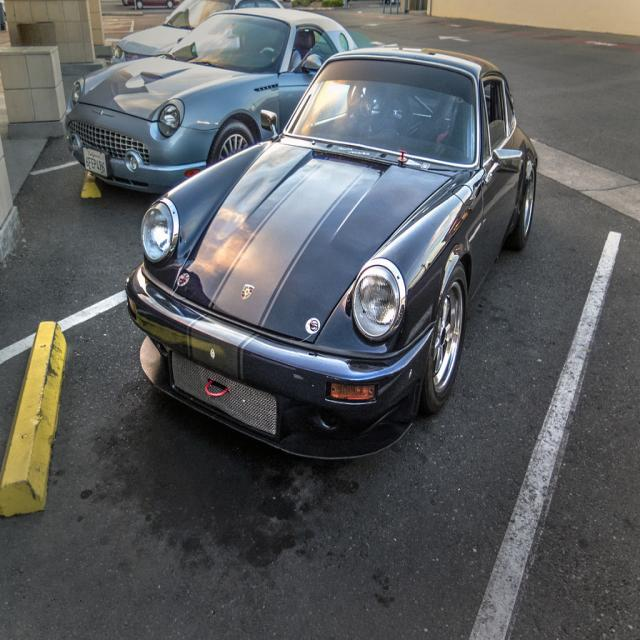car: (122, 39, 553, 464)
